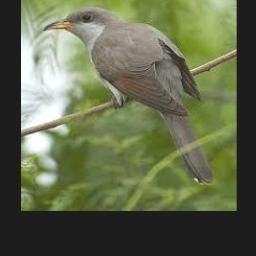Cuckoo: (45, 7, 213, 185)
